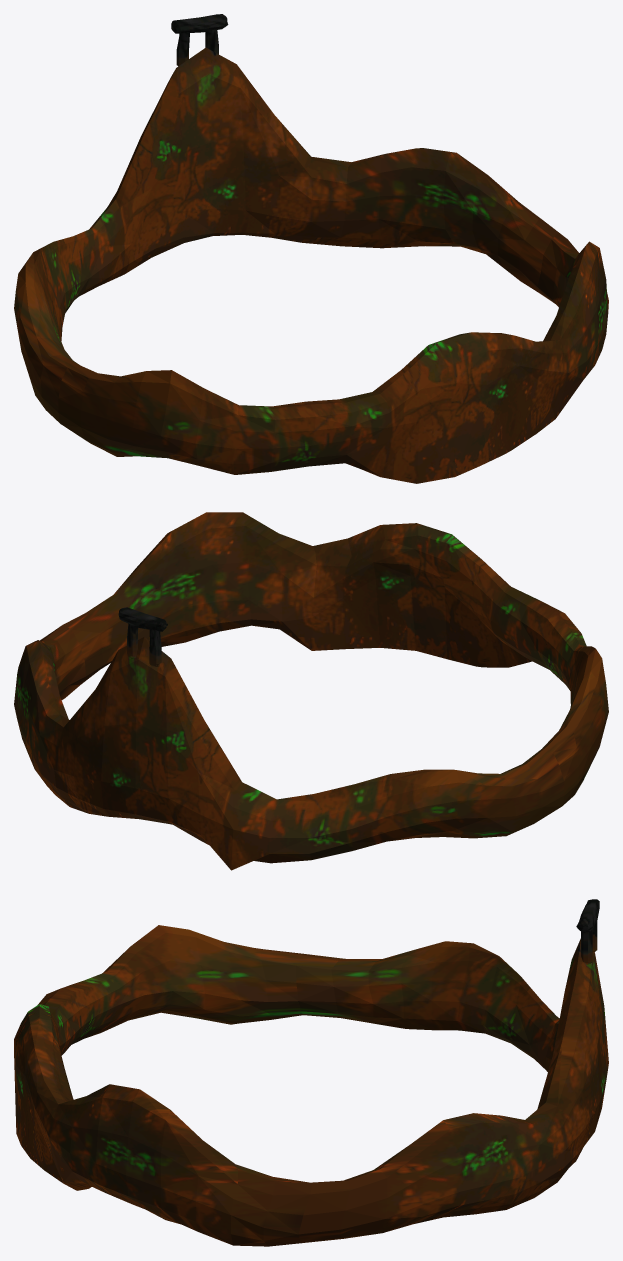
The model's file is Border.glb.
3 renders of one model, top to bottom at view 1: azimuth 30°, elevation 25°; view 2: azimuth 150°, elevation 25°; view 3: azimuth 270°, elevation 25°, orthographic.
Visible parts, largest first — view 1: Border; view 2: Border; view 3: Border.
Boxes of the visible parts, x1,y1,x2,y2 form: Border: (14,14,608,483); Border: (14,512,608,870); Border: (14,899,608,1246).
Size of the model in its own units: 325 by 146 by 324.
Materials: 1 (1 with a texture image).
